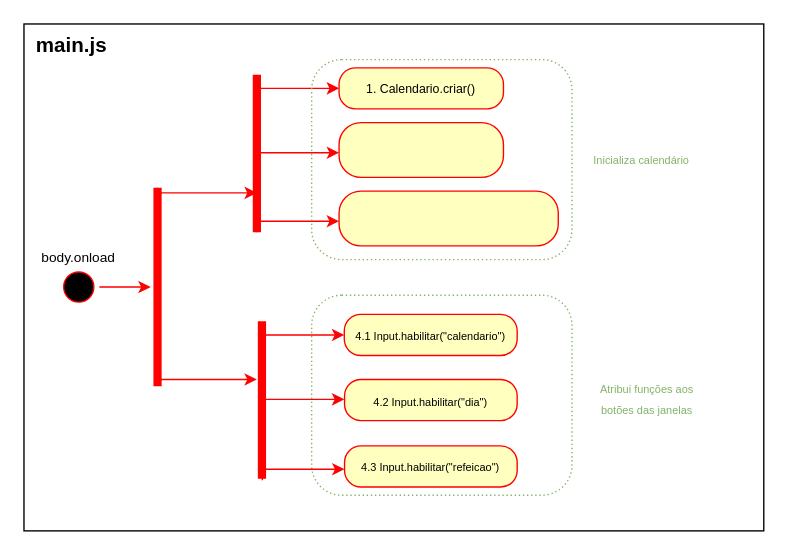
The diagram is 788 pixels wide and 555 high, and some of its shapes have lost their labels. The shapes that lost their labels are listed below. From the top down, each one's box as (x1, y1, x2, y2) in pixels, then its label:
(338, 121, 503, 177): 2. Calendario.dataAtual = Calendario.gerar("atual")
(338, 190, 558, 246): 3. Calendario.atualizar(Calendario.dataAtual)
